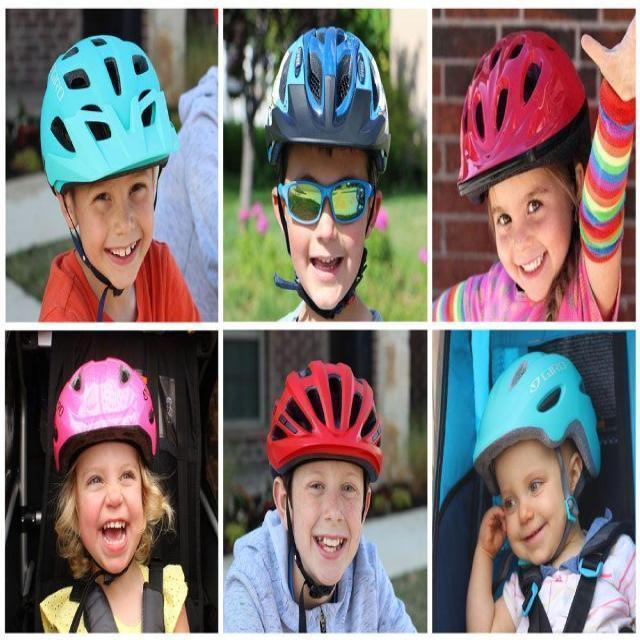helmet: (38, 30, 178, 320), (266, 28, 394, 320), (462, 28, 596, 304), (267, 356, 380, 634), (50, 358, 162, 632), (470, 350, 604, 568)
